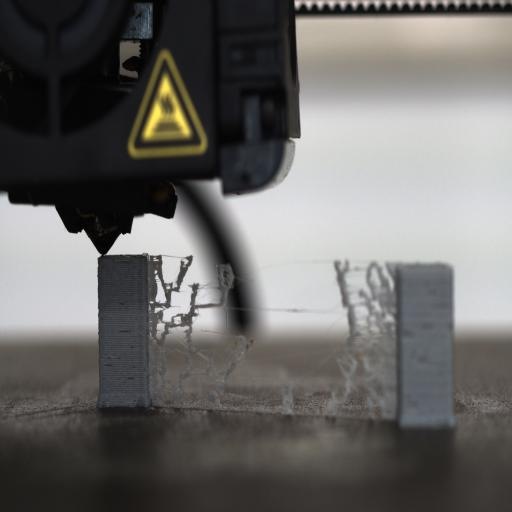stringing: (141, 255, 251, 407), (325, 261, 397, 421)
